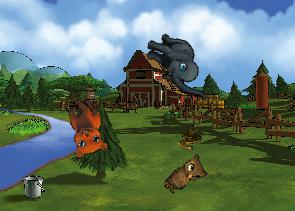bear: (51, 93, 115, 163)
elephant: (137, 30, 218, 101)
owl: (161, 150, 213, 203)
